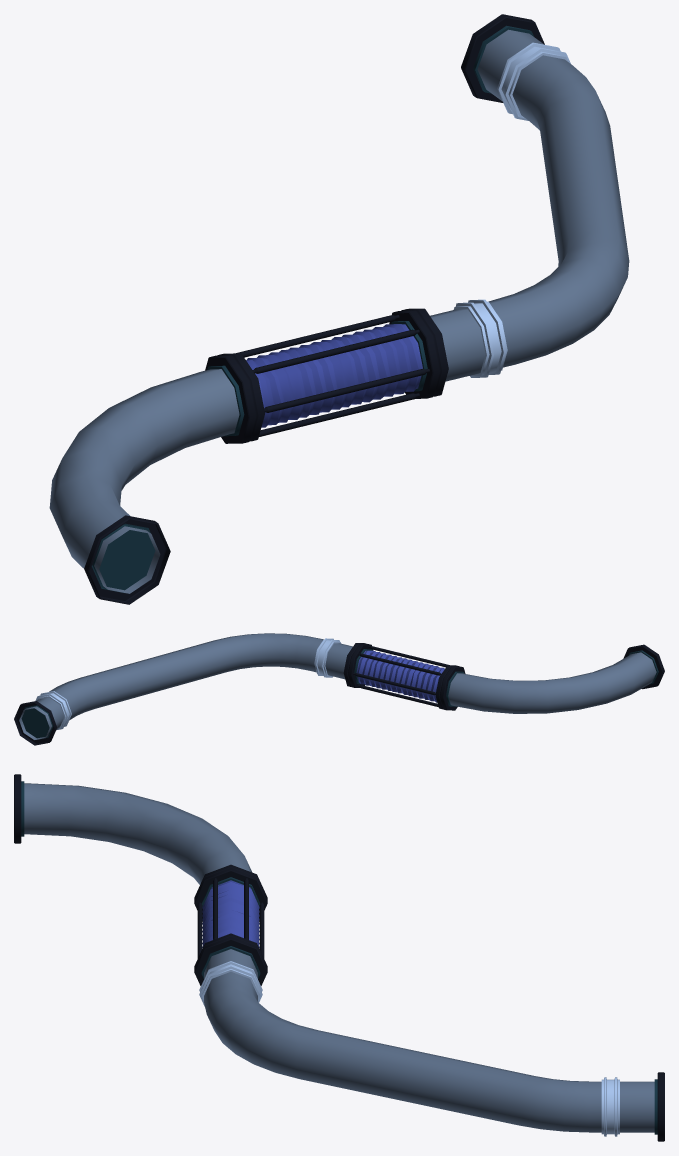
Rendered from PipeComplexSmall_A_21.fbx.
3 views of the same model, one above another, from view 1: azimuth 30°, elevation 25°; view 2: azimuth 150°, elevation 25°; view 3: azimuth 270°, elevation 25° (orthographic). The views are drawn at different scales.
Parts seen in each view (by area): view 1: PipeComplexSmall_A_21.001; view 2: PipeComplexSmall_A_21.001; view 3: PipeComplexSmall_A_21.001.
Part boxes in pixels (x1=…): PipeComplexSmall_A_21.001: x1=49, y1=14, x2=629, y2=604; PipeComplexSmall_A_21.001: x1=14, y1=633, x2=664, y2=745; PipeComplexSmall_A_21.001: x1=14, y1=774, x2=664, y2=1141.
Bounding box in the file's own units: 1.44 × 0.1356 × 1.2.
